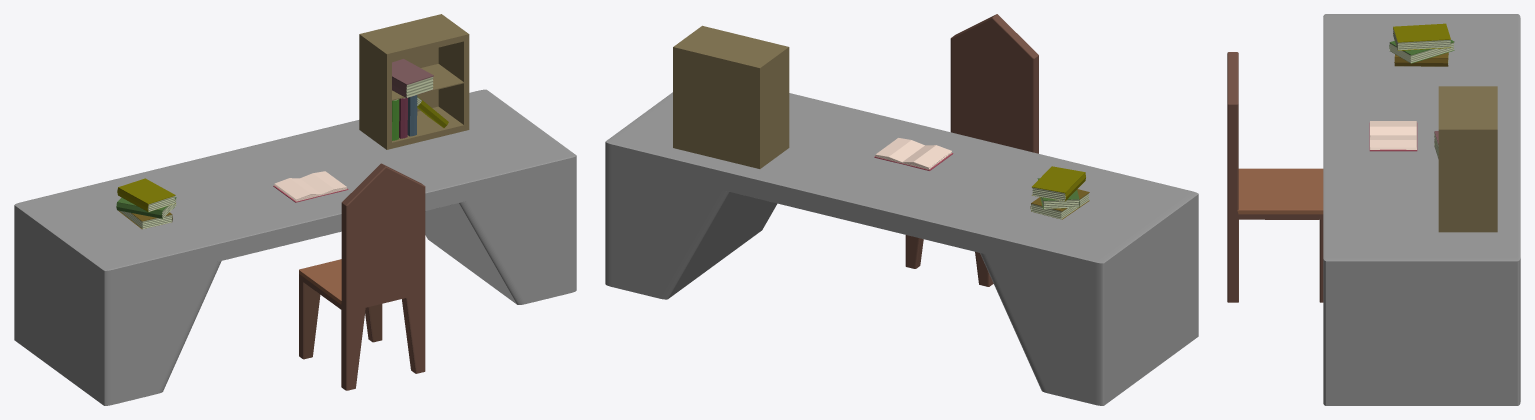
Rendered from yazaralaniv1.fbx.
3 renders of one model, left to right at view 1: azimuth 30°, elevation 25°; view 2: azimuth 150°, elevation 25°; view 3: azimuth 270°, elevation 25°, orthographic. The views are drawn at different scales.
Parts seen in each view (by area): view 1: Cube.021, Cube.020, Cube.018, Cube.023, Cube.016, Cube.022, kitap2.011, kitap2.022; view 2: Cube.021, Cube.018, Cube.020, Cube.016, kitap2.011; view 3: Cube.021, Cube.018, Cube.022, Cube.020, Cube.016, kitap2.011, kitap2.009, kitap2.007, kitap2.012.
Part boxes in pixels (x1,y1,x2,y2): Cube.021: [14, 89, 576, 405]; Cube.020: [299, 163, 425, 390]; Cube.018: [359, 14, 469, 149]; Cube.023: [304, 283, 381, 359]; Cube.016: [274, 171, 346, 201]; Cube.022: [299, 259, 341, 304]; kitap2.011: [117, 178, 175, 211]; kitap2.022: [392, 59, 433, 98]; Cube.021: [605, 92, 1198, 405]; Cube.018: [673, 25, 789, 168]; Cube.020: [905, 14, 1038, 286]; Cube.016: [875, 138, 951, 169]; kitap2.011: [1032, 166, 1085, 201]; Cube.021: [1323, 14, 1520, 405]; Cube.018: [1438, 86, 1497, 232]; Cube.022: [1237, 168, 1323, 214]; Cube.020: [1227, 52, 1323, 302]; Cube.016: [1370, 121, 1416, 149]; kitap2.011: [1393, 23, 1450, 50]; kitap2.009: [1389, 42, 1453, 62]; kitap2.007: [1394, 52, 1448, 66]; kitap2.012: [1393, 27, 1450, 50].
Size of the model in its own units: 488 by 456 by 974.
